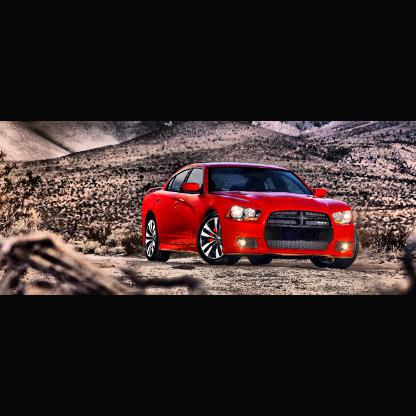Dodge Charger Sedan 2012: (139, 160, 364, 273)
